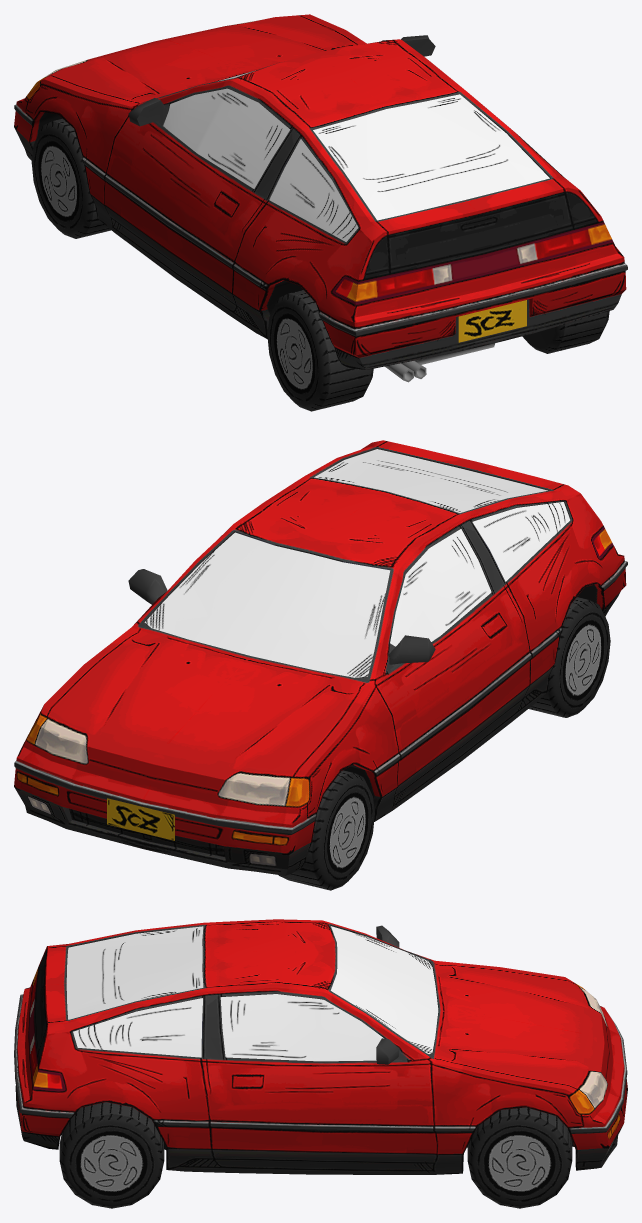
Rendered from honda-crx-si.fbx.
The picture shows the model from 3 angles, top to bottom: view 1: azimuth 30°, elevation 25°; view 2: azimuth 150°, elevation 25°; view 3: azimuth 270°, elevation 25°; orthographic projection. The views are drawn at different scales.
Visible parts, largest first — view 1: honda-crx-si.001; view 2: honda-crx-si.001; view 3: honda-crx-si.001.
Part boxes in pixels (<box>): honda-crx-si.001: <box>14,14,627,411</box>; honda-crx-si.001: <box>14,440,627,890</box>; honda-crx-si.001: <box>14,919,627,1208</box>.
Size of the model in its own units: 4.36 by 2.15 by 1.56.
